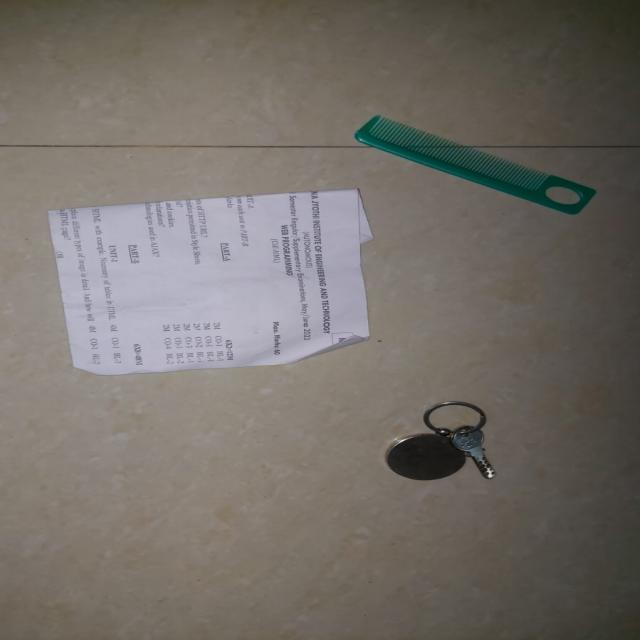dry: (44, 187, 376, 378), (354, 114, 598, 215), (385, 400, 498, 480)
